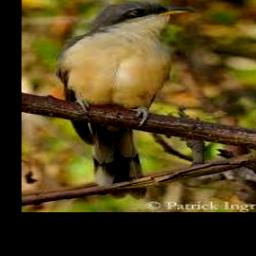Cuckoo: (54, 2, 195, 199)
